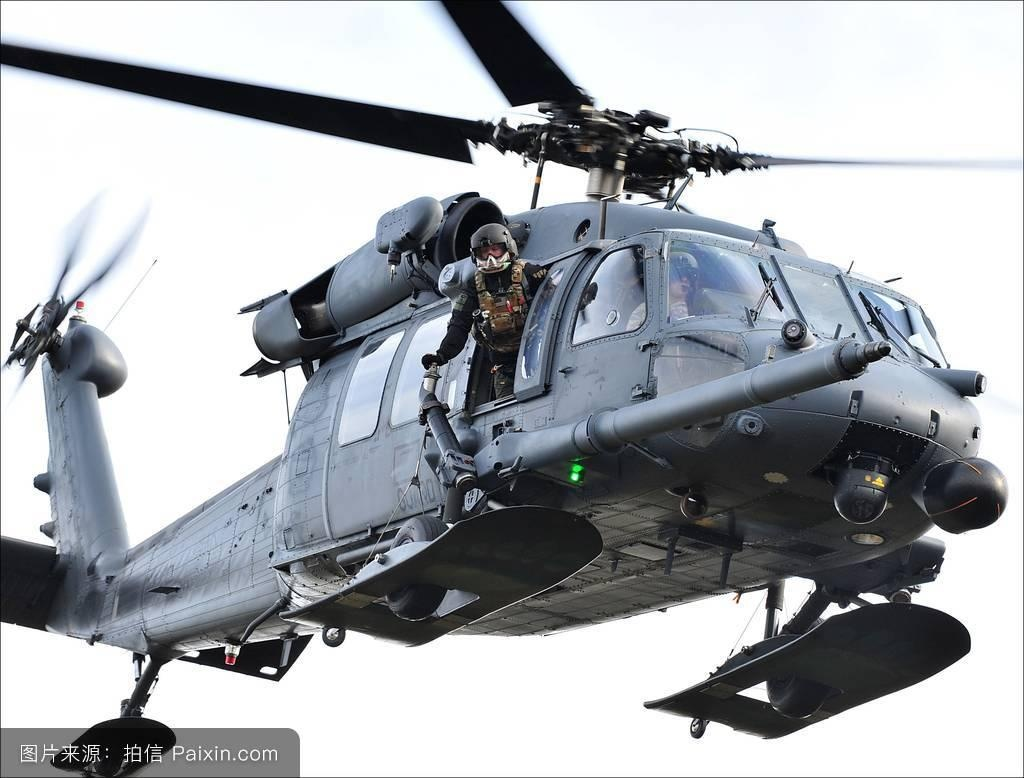airplane: (10, 1, 1018, 727)
